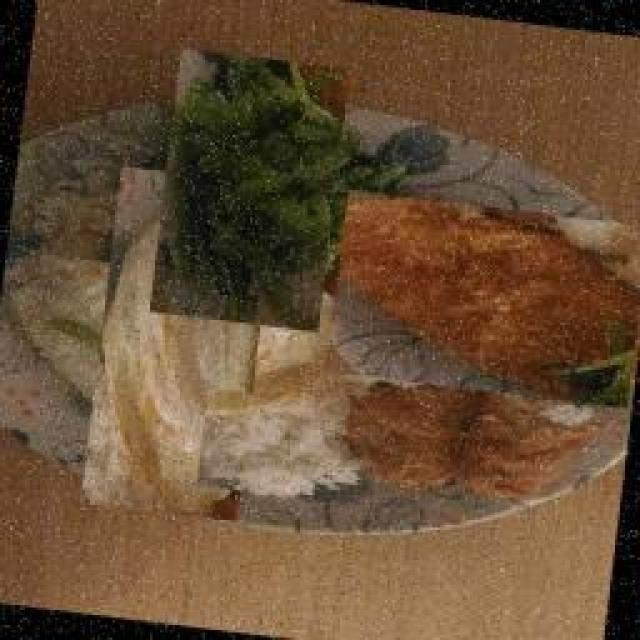fried_chicken: (325, 188, 640, 408)
fried_eggs: (40, 205, 318, 483)
rice: (197, 388, 355, 503)
water_spinach: (130, 70, 373, 313)
